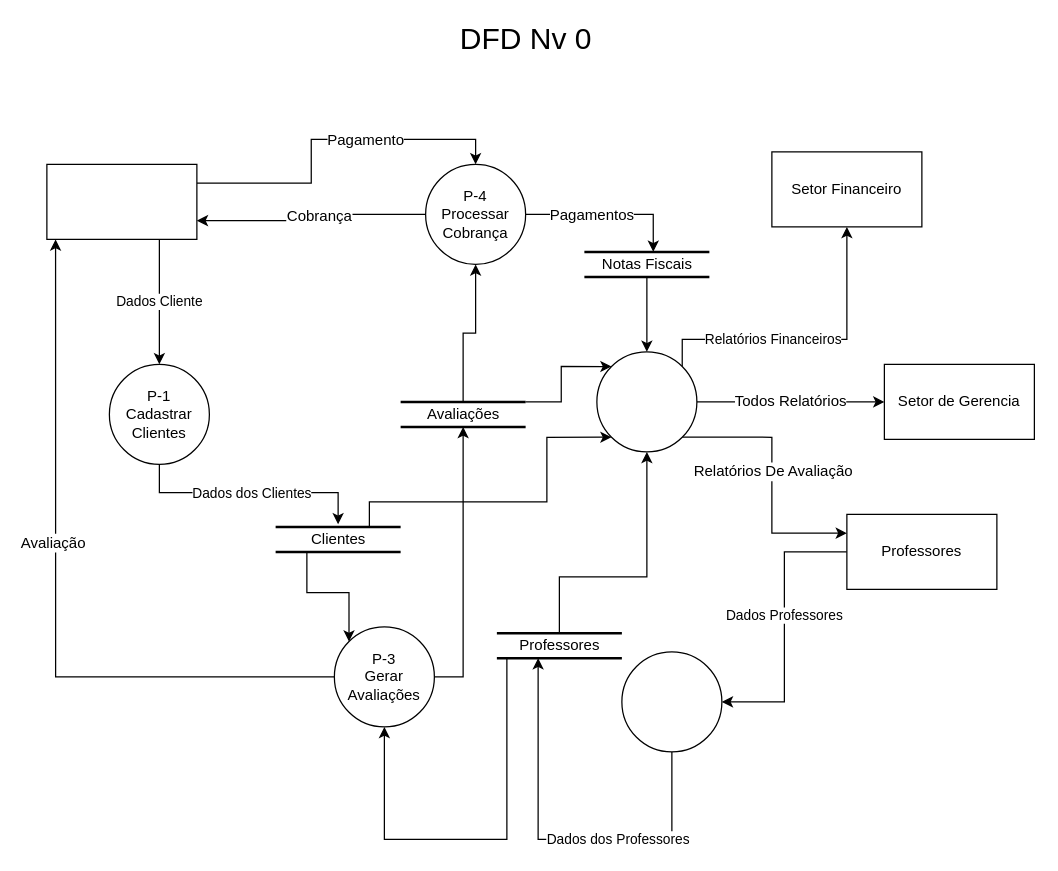
The diagram is 1058 pixels wide and 871 high, and some of its shapes have lost their labels. The shapes that lost their labels are listed below. From the top down, each one's centre as x and y in pixels, then its label:
pixel 121 201: Cliente
pixel 646 401: P-5 Emitir Relatórios
pixel 671 701: P-2 Registrar Professores
